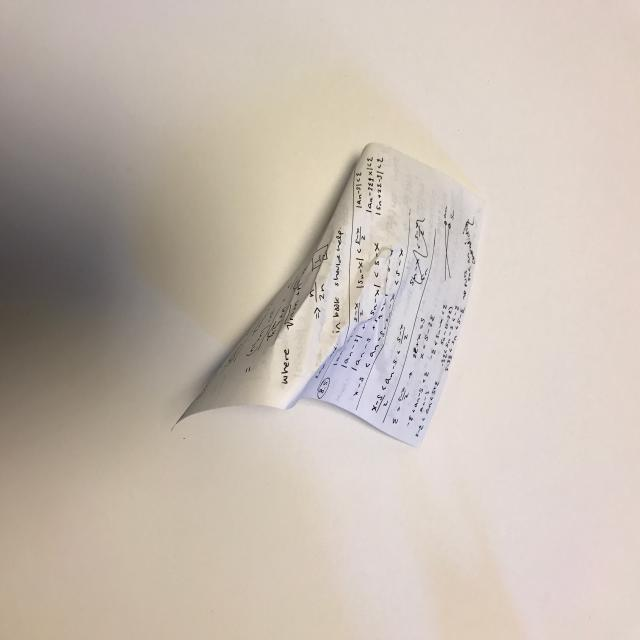paper: (164, 128, 493, 468)
